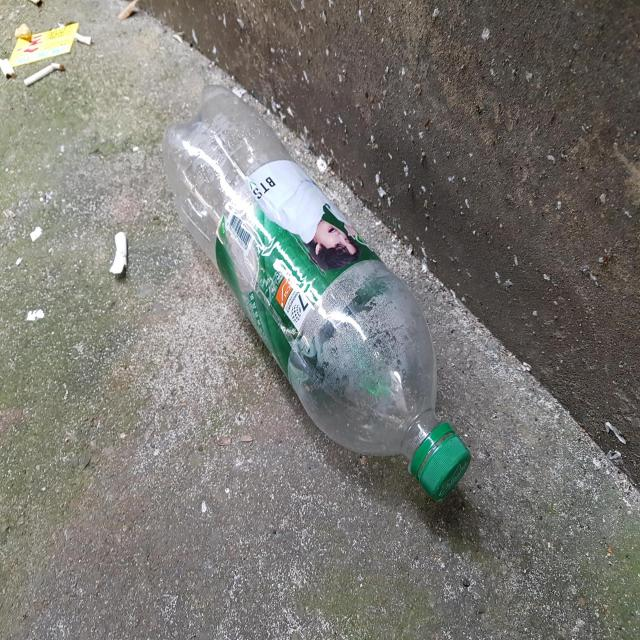plastic: (162, 85, 472, 501)
